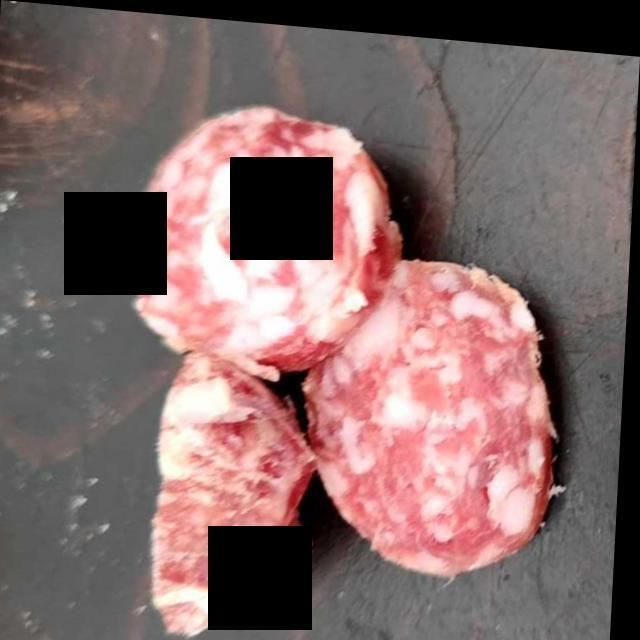salami: (122, 107, 590, 619)
